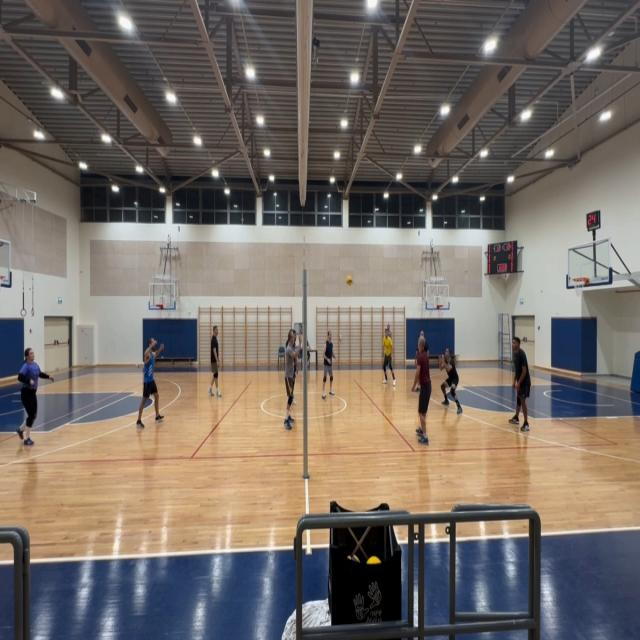volleyball: (346, 276, 353, 286)
